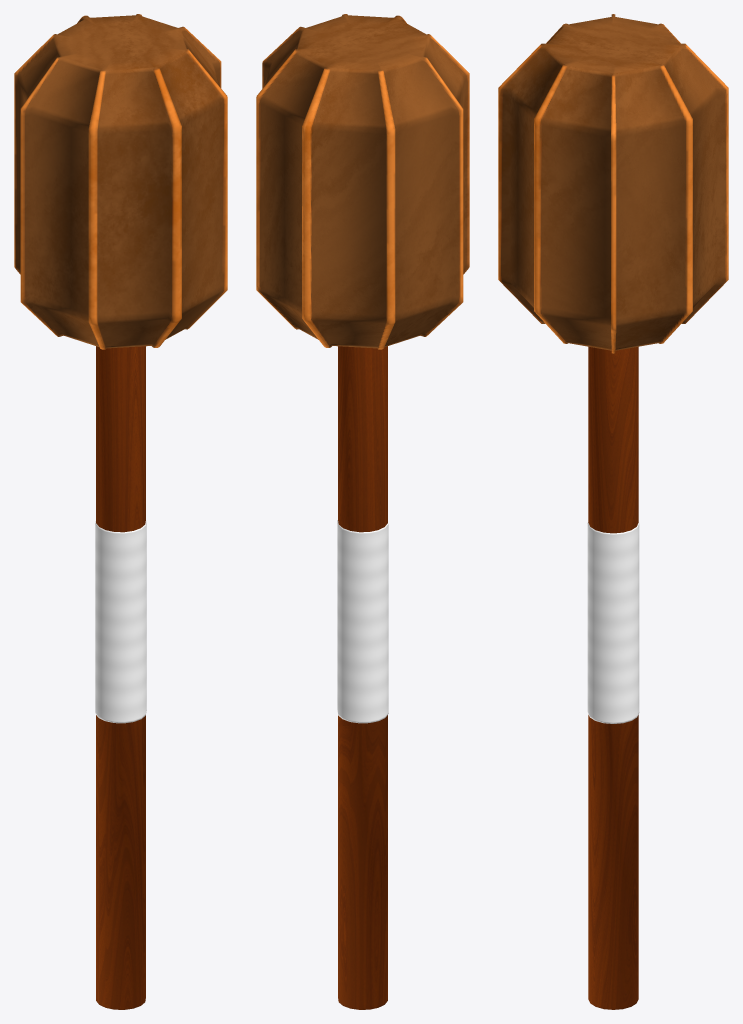
File: Mace.fbx
The picture shows the model from 3 angles, left to right: view 1: azimuth 30°, elevation 25°; view 2: azimuth 150°, elevation 25°; view 3: azimuth 270°, elevation 25°; orthographic projection.
Parts seen in each view (by area): view 1: Head, Handle, Grip; view 2: Head, Handle, Grip; view 3: Head, Handle, Grip.
Part boxes in pixels (<box>): Head: <box>14,14,227,349</box>; Handle: <box>96,346,145,1009</box>; Grip: <box>95,520,146,723</box>; Head: <box>256,14,469,349</box>; Handle: <box>338,346,387,1009</box>; Grip: <box>337,520,388,723</box>; Head: <box>498,14,728,353</box>; Handle: <box>588,346,638,1009</box>; Grip: <box>587,522,639,723</box>.
Size of the model in its own units: 121 by 554 by 121.
1 material, 1 textured.
